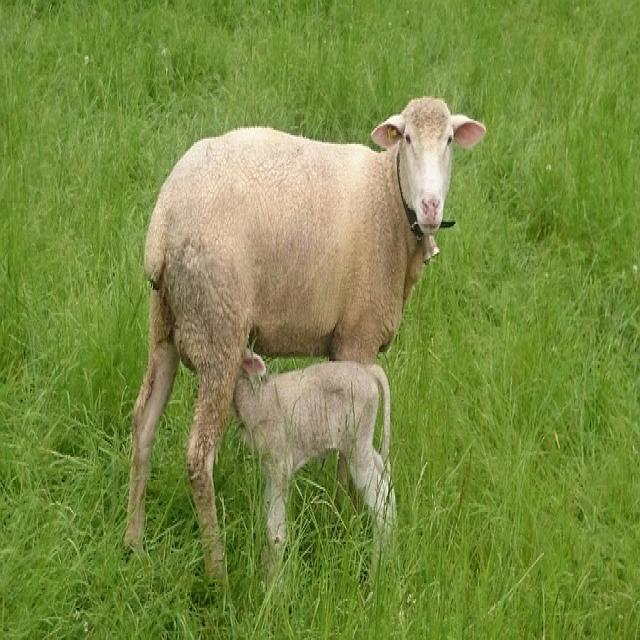goat: (123, 98, 487, 583), (230, 354, 392, 553)
